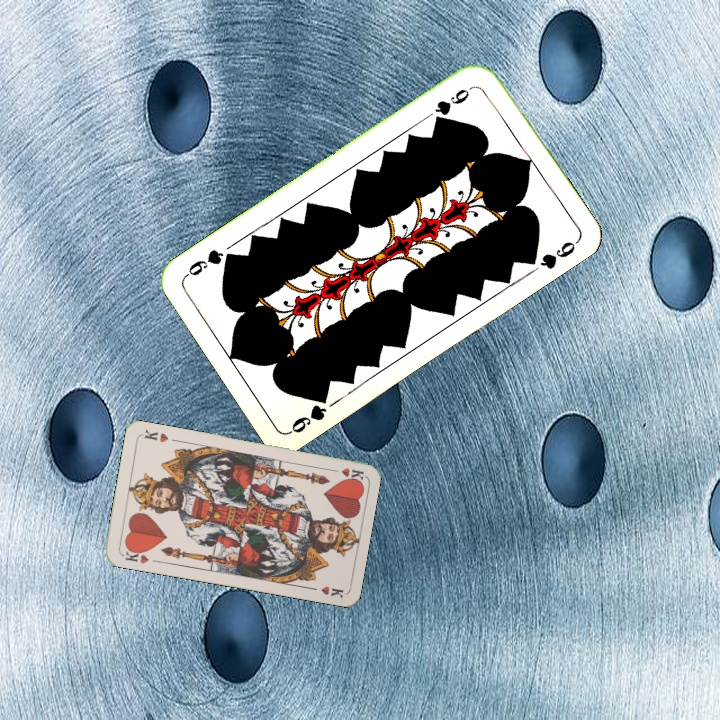G9: (286, 388, 332, 436), (430, 81, 477, 125)
HK: (325, 464, 366, 483), (121, 544, 151, 566)
